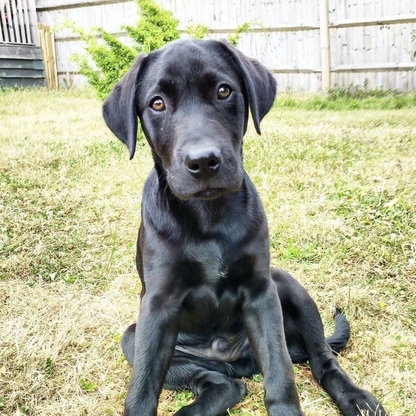labrado: (96, 34, 390, 416)
